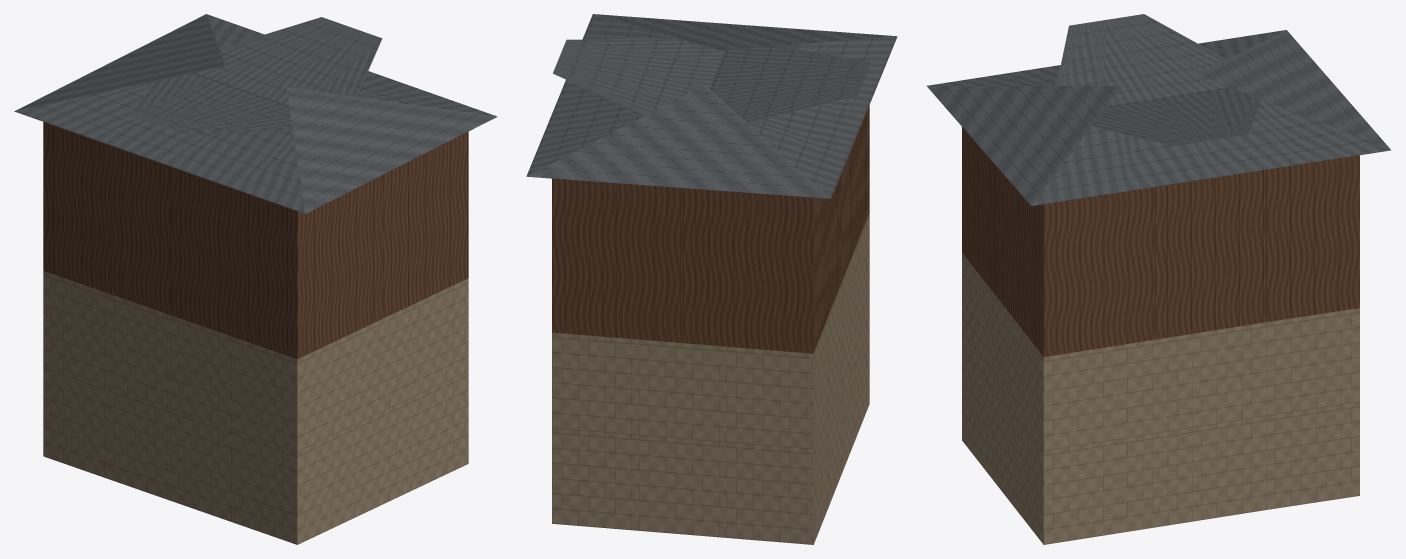
The model's file is bld_c10_16_448.gltf.
3 renders of one model, left to right at view 1: azimuth 30°, elevation 25°; view 2: azimuth 150°, elevation 25°; view 3: azimuth 270°, elevation 25°, orthographic. The views are drawn at different scales.
Visible parts, largest first — view 1: bld_c10_16_448; view 2: bld_c10_16_448; view 3: bld_c10_16_448.
Boxes of the visible parts, box(x1,y1,x2,y2) form: bld_c10_16_448: box(14, 14, 497, 544); bld_c10_16_448: box(526, 14, 897, 544); bld_c10_16_448: box(927, 14, 1390, 544).
Size of the model in its own units: 9.95 by 10.2 by 11.08.
Materials: 3 (3 with a texture image).
